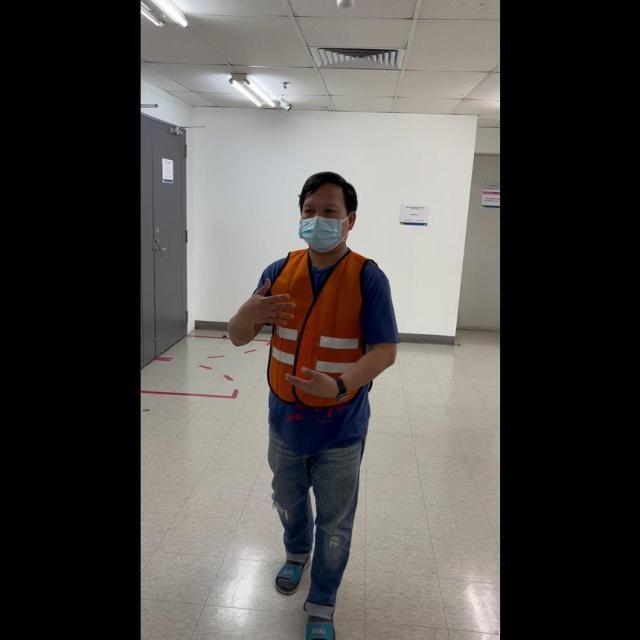bare_hand: (244, 275, 295, 328), (285, 361, 342, 407)
